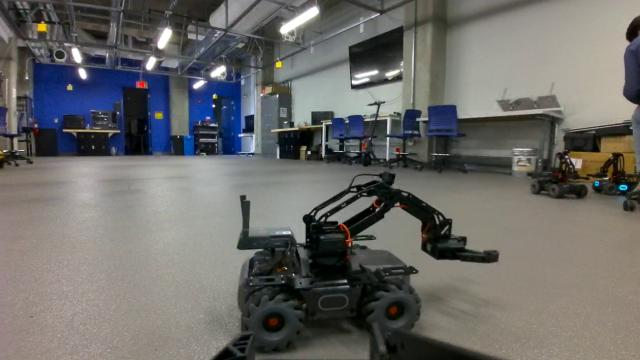robot: (233, 162, 501, 354)
